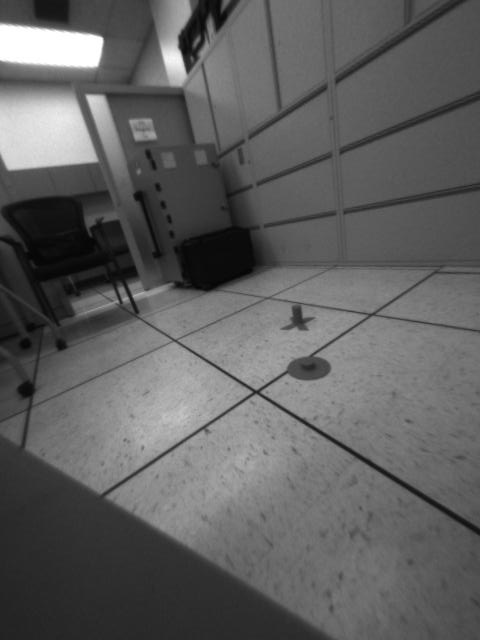X: (276, 302, 319, 334)
